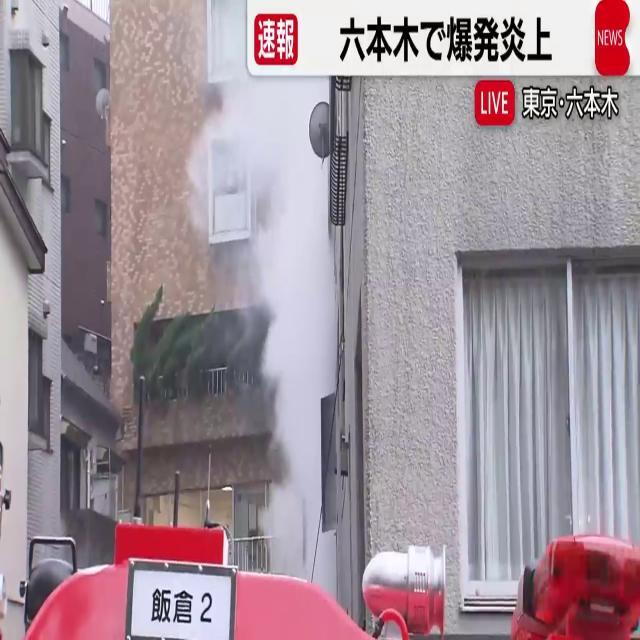Smoke: (194, 38, 338, 526)
